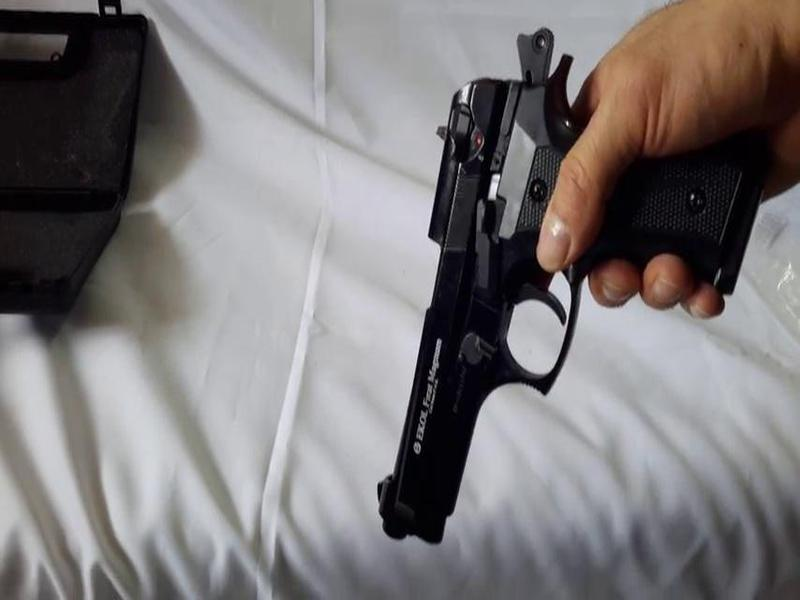Pistola: (354, 18, 763, 566)
